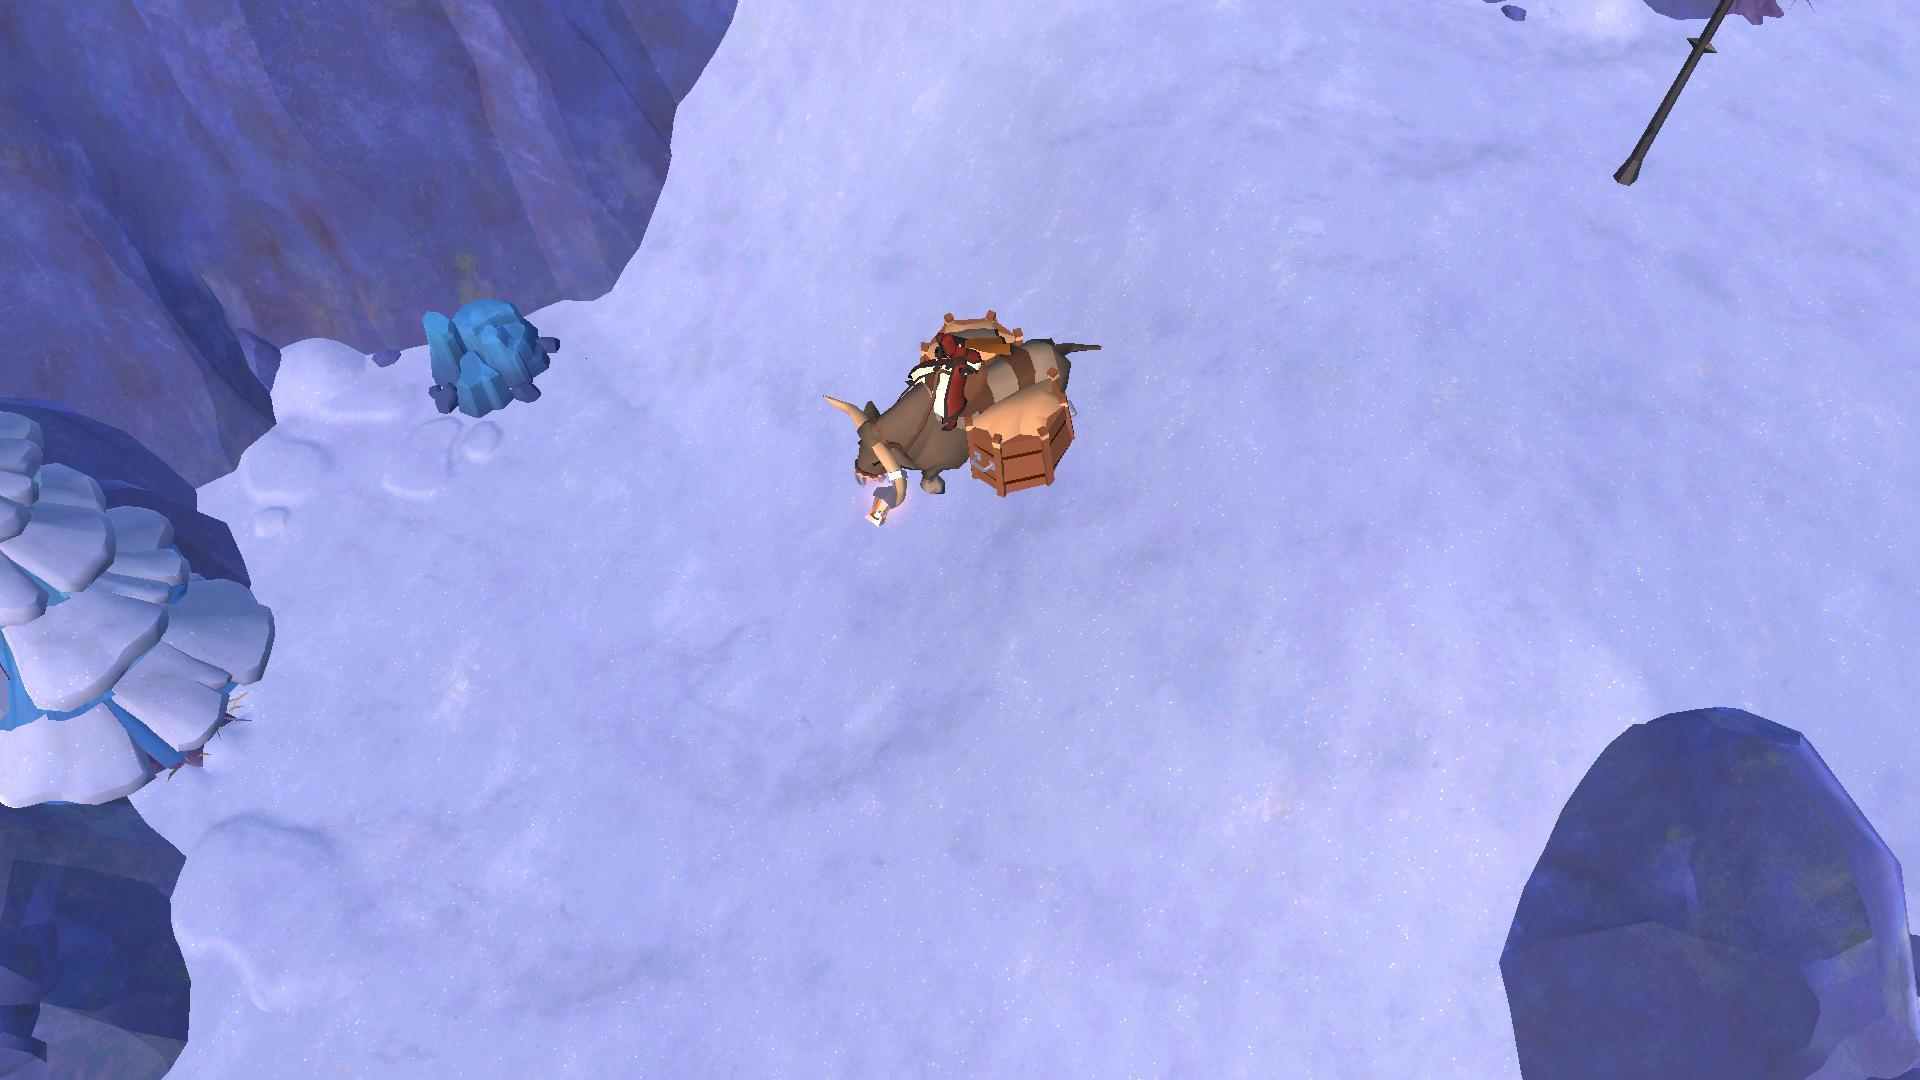rock_t4: (398, 298, 560, 413)
